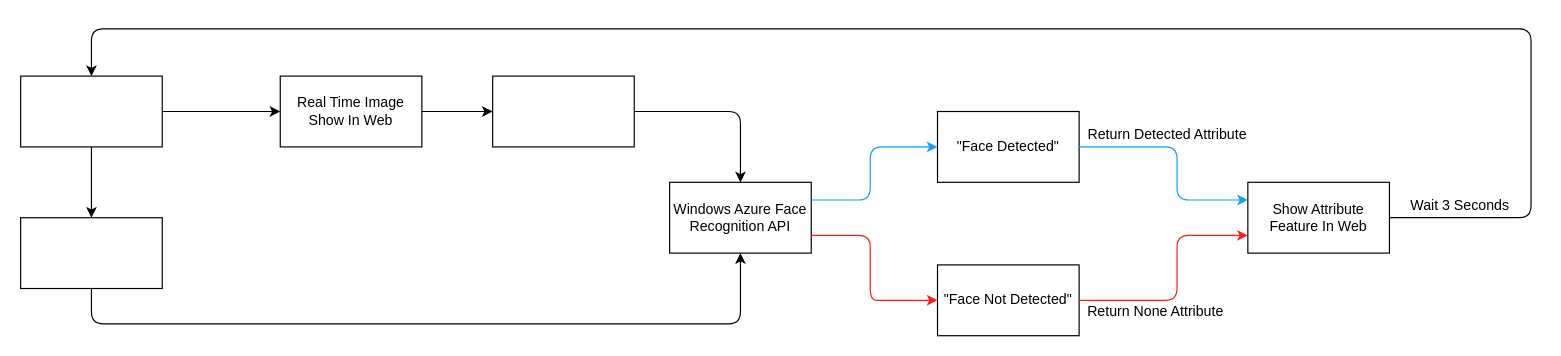
Image size: 1561x356. Some labels were removed from this diagram. The shapes that lost their labels are listed below. From the top down, each one's centre as x and y in pixels, then its label:
pixel 90 111: WebCam
pixel 562 111: "人物偵測" Button Click
pixel 90 253: Generate Local Image File
